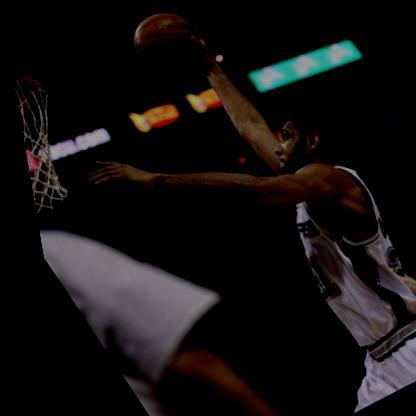basketball: (114, 3, 214, 84)
rim: (9, 70, 105, 227)
